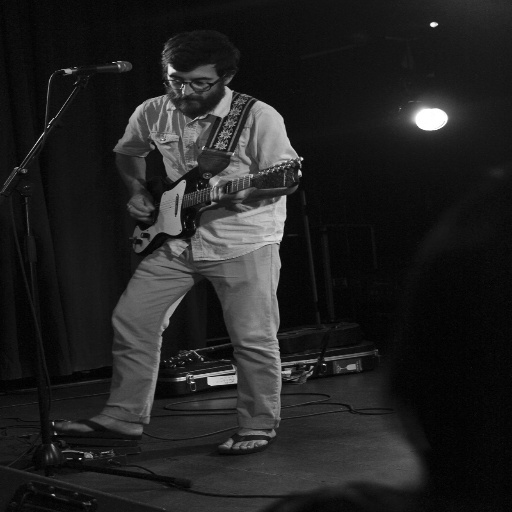hand: (115, 183, 167, 224), (201, 172, 250, 212)
